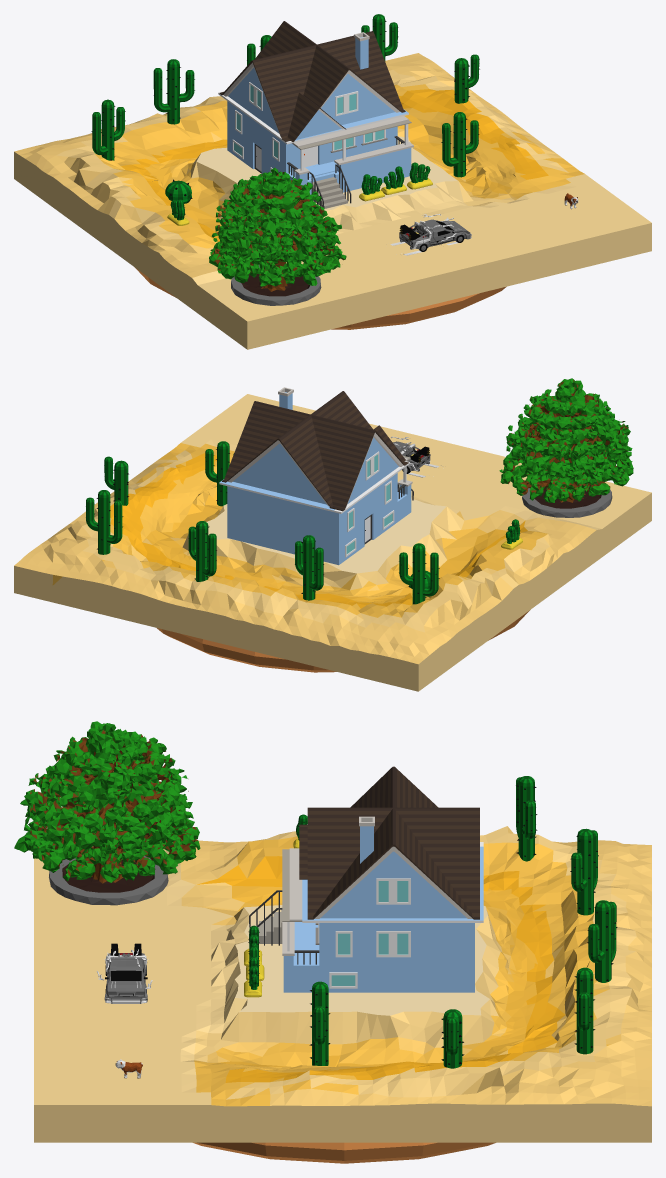
3 renders of one model, top to bottom at view 1: azimuth 30°, elevation 25°; view 2: azimuth 150°, elevation 25°; view 3: azimuth 270°, elevation 25°, orthographic. The views are drawn at different scales.
Visible parts, largest first — view 1: Cube.001, Cube.1594, OBJRANDOM_CEIBA, UNDERGROUND_PIZZA, VEHICLES_DELOREAN, Cylinder.044, Cylinder.037, Cylinder.045, Cylinder.038, Cylinder.042, Cylinder.041, Cylinder.039 (+1 smaller); view 2: Cube.001, Cube.1594, OBJRANDOM_CEIBA, UNDERGROUND_PIZZA, Cylinder.045, Cylinder.042, Cylinder.044, Cylinder.043, Cylinder.037, Cylinder.038, VEHICLES_DELOREAN; view 3: Cube.001, Cube.1594, OBJRANDOM_CEIBA, UNDERGROUND_PIZZA, VEHICLES_DELOREAN, Cylinder.043, Cylinder.044, Cylinder.045, Cylinder.042, Cylinder.037, Cylinder.038.
Boxes of the visible parts, left/top/right/bottom form: Cube.001: left=14, top=53, right=651, bottom=349; Cube.1594: left=218, top=21, right=413, bottom=208; OBJRANDOM_CEIBA: left=209, top=167, right=346, bottom=305; UNDERGROUND_PIZZA: left=134, top=267, right=506, bottom=329; VEHICLES_DELOREAN: left=390, top=214, right=471, bottom=255; Cylinder.044: left=153, top=59, right=194, bottom=124; Cylinder.037: left=441, top=112, right=479, bottom=177; Cylinder.045: left=91, top=99, right=125, bottom=160; Cylinder.038: left=454, top=54, right=479, bottom=103; Cylinder.042: left=361, top=14, right=398, bottom=61; Cylinder.041: left=407, top=162, right=432, bottom=189; Cylinder.039: left=359, top=174, right=384, bottom=201; Cube.001: left=14, top=394, right=651, bottom=691; Cube.1594: left=219, top=387, right=413, bottom=565; OBJRANDOM_CEIBA: left=499, top=378, right=633, bottom=517; UNDERGROUND_PIZZA: left=157, top=610, right=529, bottom=672; Cylinder.045: left=399, top=543, right=439, bottom=604; Cylinder.042: left=86, top=490, right=123, bottom=554; Cylinder.044: left=295, top=535, right=323, bottom=600; Cylinder.043: left=188, top=521, right=216, bottom=581; Cylinder.037: left=205, top=441, right=233, bottom=506; Cylinder.038: left=104, top=456, right=128, bottom=505; VEHICLES_DELOREAN: left=390, top=436, right=443, bottom=477; Cube.001: left=34, top=826, right=651, bottom=1142; Cube.1594: left=249, top=766, right=483, bottom=992; OBJRANDOM_CEIBA: left=14, top=721, right=200, bottom=905; UNDERGROUND_PIZZA: left=193, top=1142, right=495, bottom=1163; VEHICLES_DELOREAN: left=96, top=943, right=152, bottom=1003; Cylinder.043: left=587, top=900, right=617, bottom=982; Cylinder.044: left=570, top=828, right=598, bottom=915; Cylinder.045: left=516, top=776, right=537, bottom=861; Cylinder.042: left=574, top=967, right=595, bottom=1054; Cylinder.037: left=309, top=981, right=330, bottom=1065; Cylinder.038: left=441, top=1009, right=464, bottom=1068.
Bounding box in the file's own units: 4015 × 1839 × 4132.
43 materials, 2 textured.
